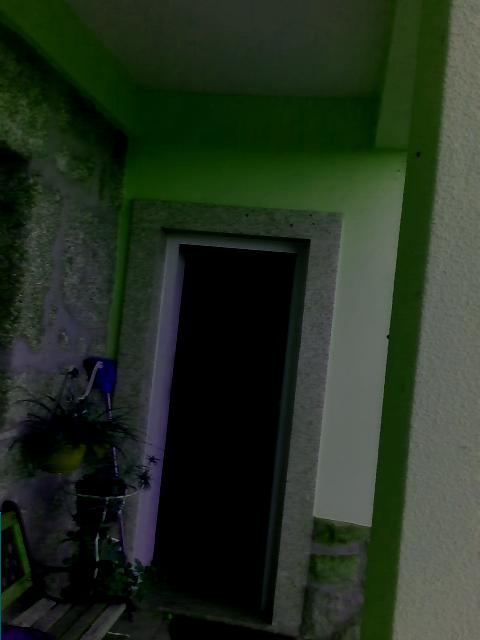open_door: (131, 225, 311, 615)
